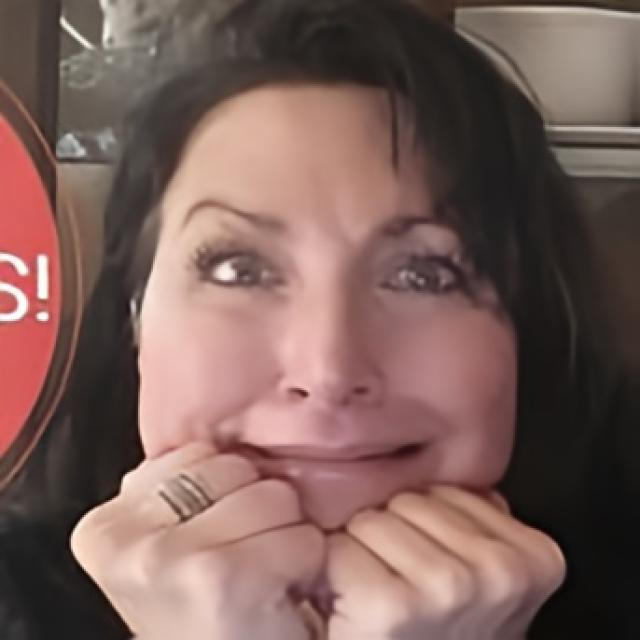fear: (138, 67, 521, 573)
